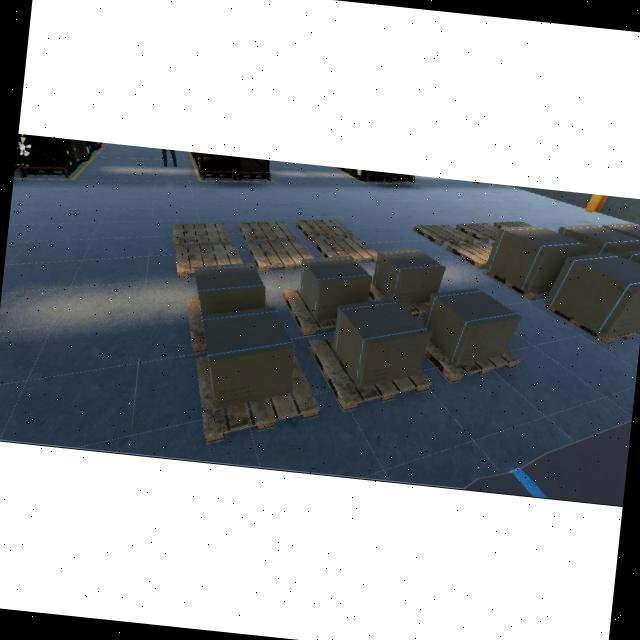wooden_pallet: (194, 353, 319, 445), (308, 336, 431, 411), (424, 337, 522, 383), (543, 303, 640, 345), (281, 287, 337, 337), (175, 244, 242, 277), (485, 270, 551, 300), (247, 241, 313, 271), (313, 235, 378, 263), (412, 223, 475, 246), (446, 240, 493, 270), (238, 220, 297, 243), (173, 223, 231, 246), (294, 218, 353, 240), (455, 221, 499, 242)
